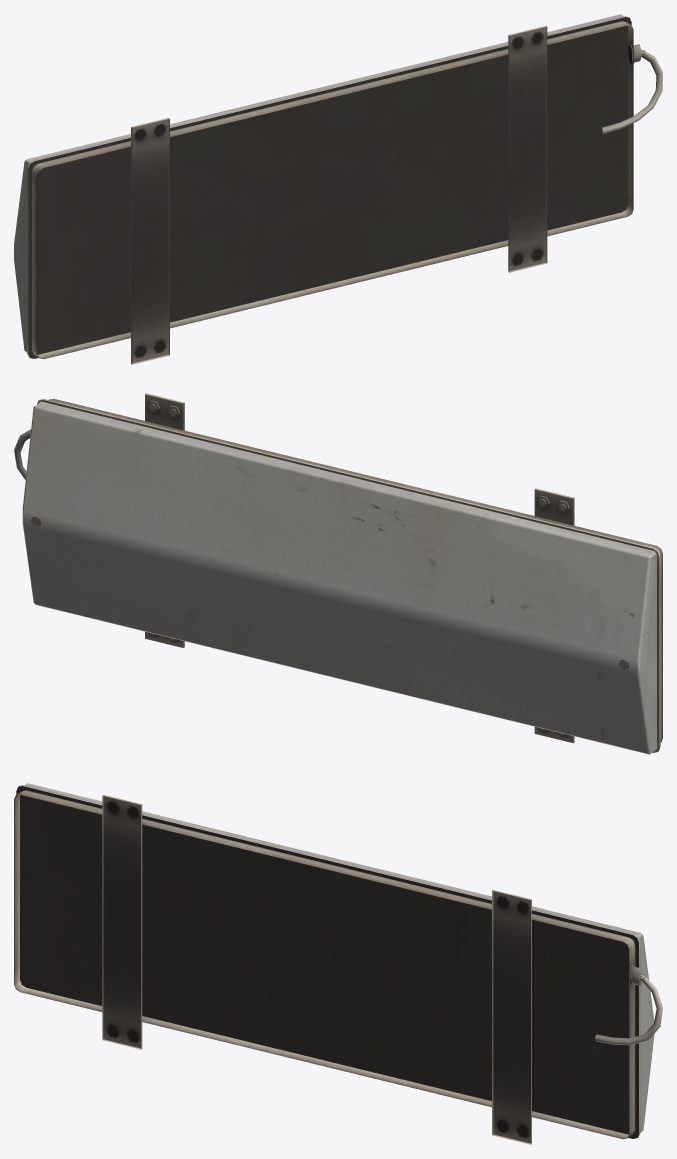
File: p6_blk_fluorescent_light_off_LOD0.obj
The picture shows the model from 3 angles, top to bottom: view 1: azimuth 30°, elevation 25°; view 2: azimuth 150°, elevation 25°; view 3: azimuth 330°, elevation 25°; orthographic projection. The views are drawn at different scales.
Visible parts, largest first — view 1: mtl_ny_harbor_sub_int_light, plastic_fluorescent_cover_off; view 2: plastic_fluorescent_cover_off, mtl_ny_harbor_sub_int_light; view 3: mtl_ny_harbor_sub_int_light, plastic_fluorescent_cover_off.
Part boxes in pixels (box(x1,y1,x2,y2)): mtl_ny_harbor_sub_int_light: box(27, 16, 662, 364); plastic_fluorescent_cover_off: box(14, 14, 623, 352); plastic_fluorescent_cover_off: box(22, 401, 656, 754); mtl_ny_harbor_sub_int_light: box(14, 393, 662, 752); mtl_ny_harbor_sub_int_light: box(14, 785, 662, 1144); plastic_fluorescent_cover_off: box(25, 783, 654, 1132).
Size of the model in its own units: 170 by 60.93 by 13.69.
